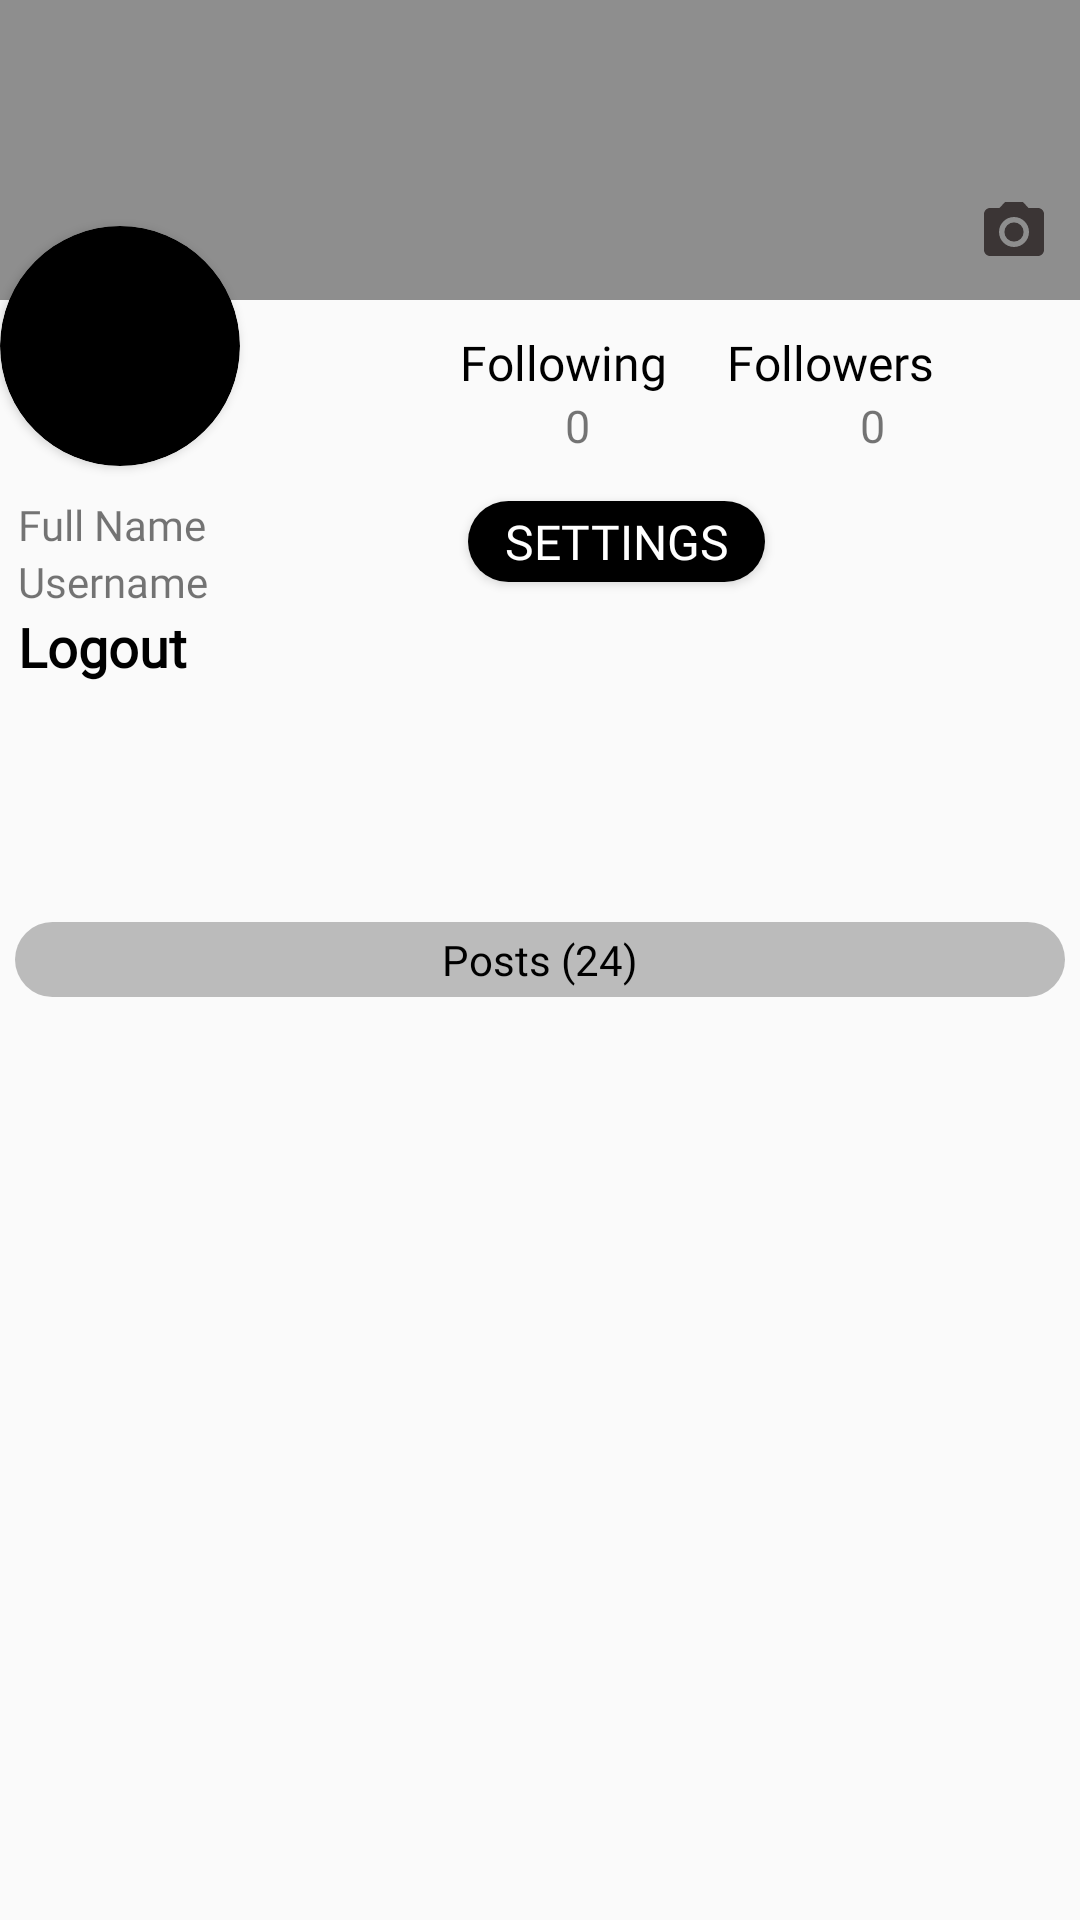

Point at icon controls on the screen. Image size 1080px x 1920px, points as (x=x, y=y).
camera: (x=1014, y=229)
